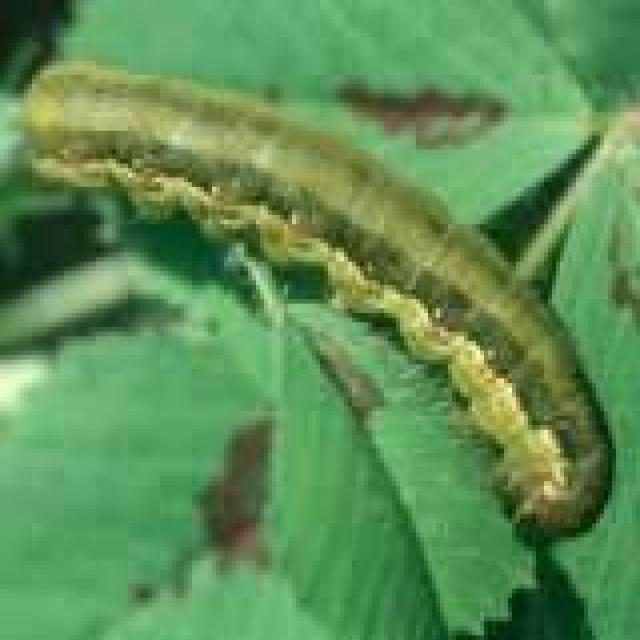BeetArmyWorm-Larva-: (5, 49, 626, 553)
